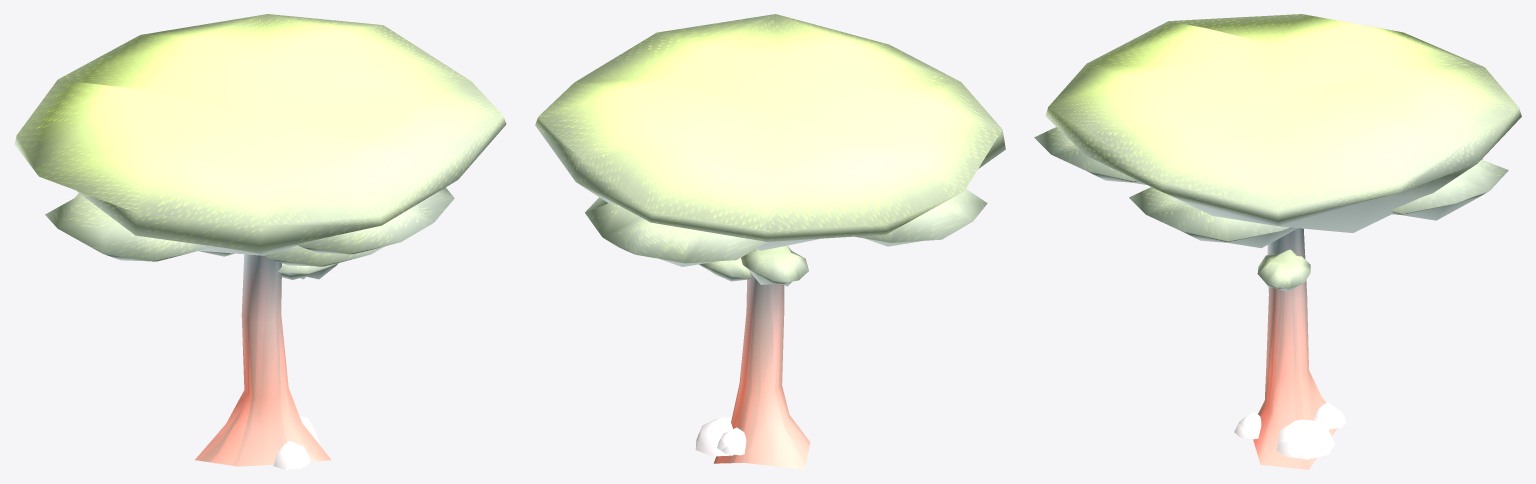
Rendered from treeSoloOld.gltf.
The picture shows the model from 3 angles, left to right: view 1: azimuth 30°, elevation 25°; view 2: azimuth 150°, elevation 25°; view 3: azimuth 270°, elevation 25°; orthographic projection. The views are drawn at different scales.
Parts seen in each view (by area): view 1: Tree; view 2: Tree; view 3: Tree.
Part boxes in pixels (x1,y1,x2,y2): Tree: (14, 14, 506, 469); Tree: (535, 14, 1005, 469); Tree: (1034, 14, 1521, 469).
Size of the model in its own units: 43.08 by 38.1 by 44.54.
